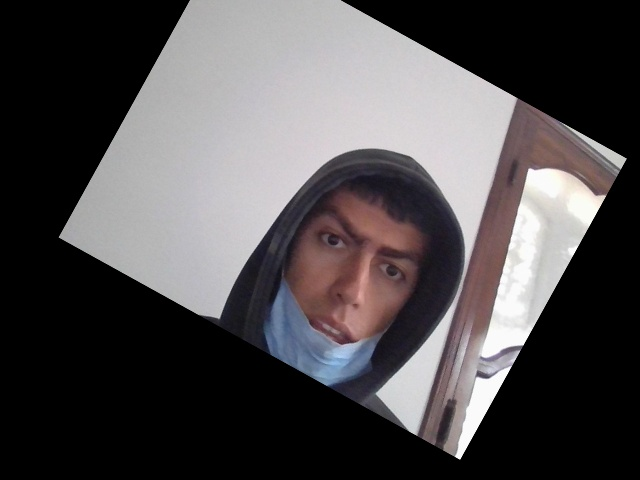mask_weared_incorrect: (270, 182, 429, 389)
